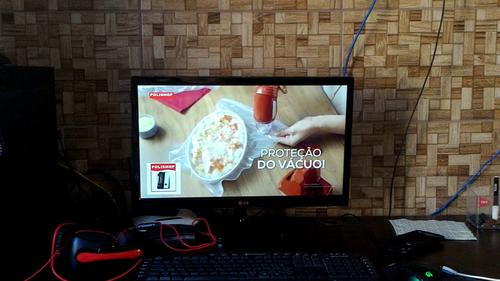Polishop #1: (146, 161, 181, 195)
